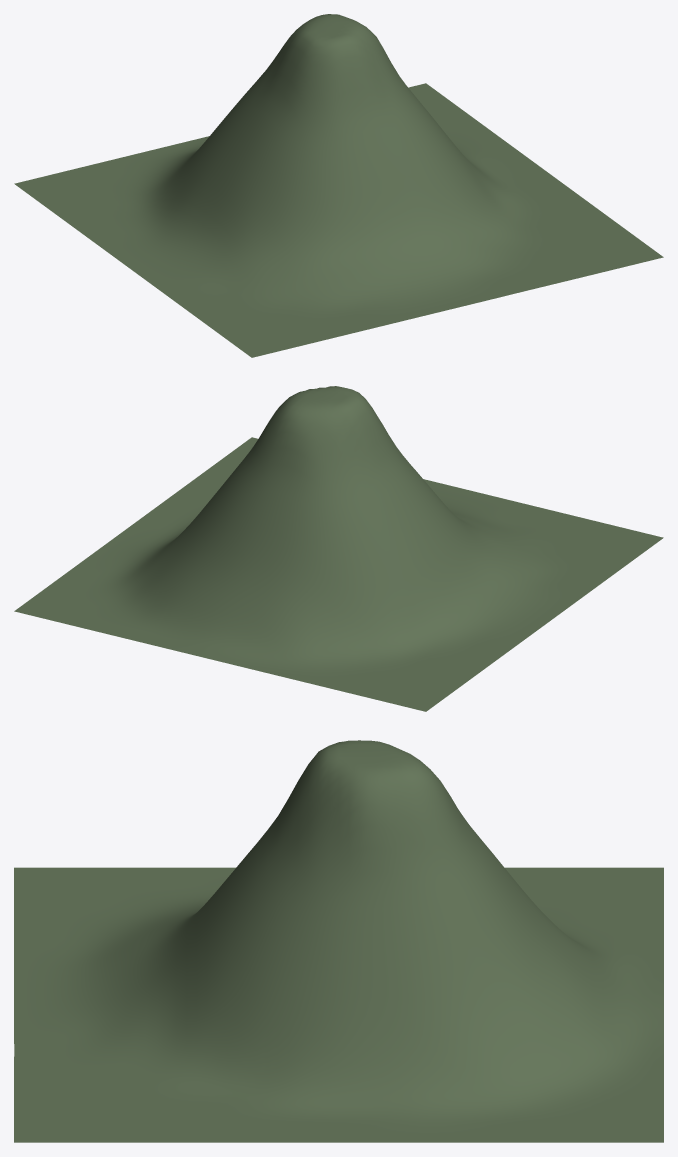
File: hill.fbx
3 views of the same model, one above another, from view 1: azimuth 30°, elevation 25°; view 2: azimuth 150°, elevation 25°; view 3: azimuth 270°, elevation 25° (orthographic). The views are drawn at different scales.
Visible parts, largest first — view 1: mountain; view 2: mountain; view 3: mountain.
Part boxes in pixels (x1,y1,x2,y2): mountain: (14, 14, 663, 357); mountain: (14, 386, 663, 711); mountain: (14, 740, 663, 1142).
Size of the model in its own units: 557 by 238 by 557.
